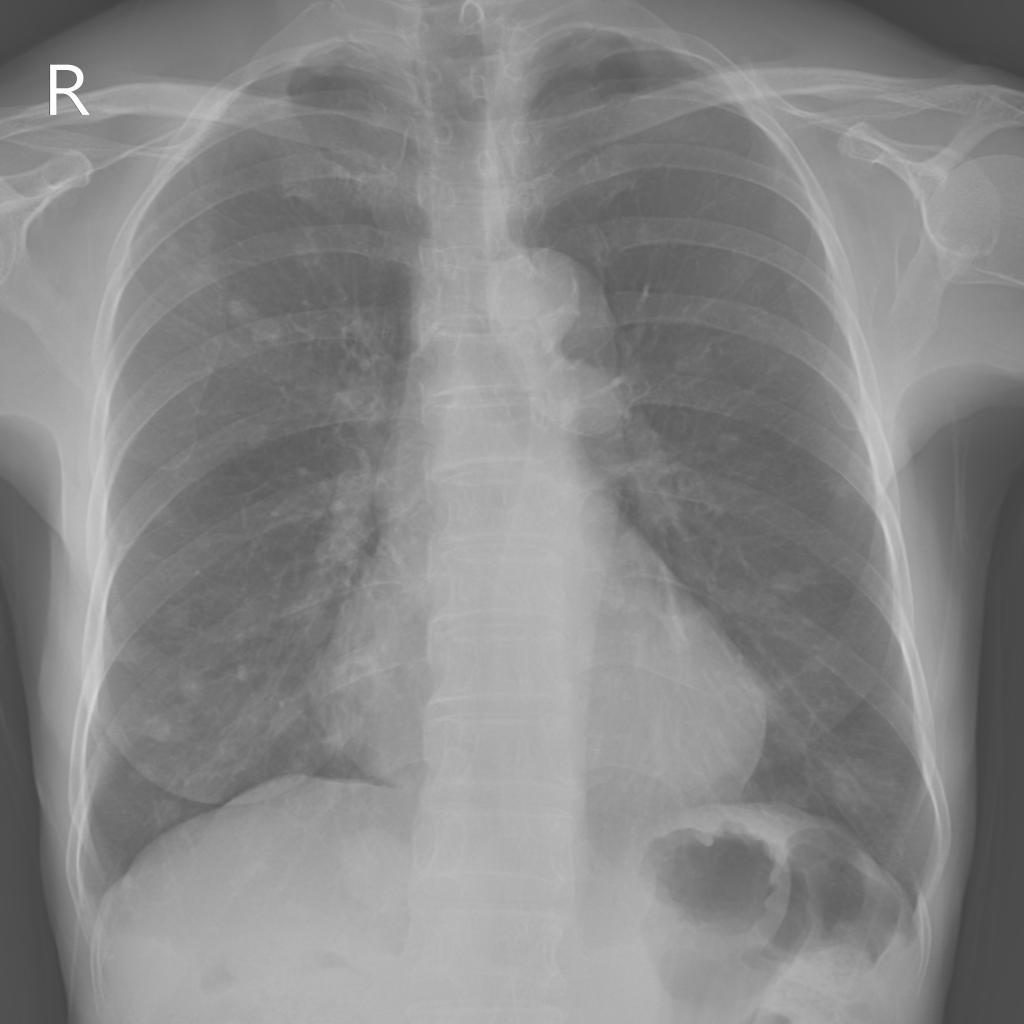Nodule: (118, 669, 216, 834), (337, 828, 418, 910), (830, 756, 901, 819), (277, 596, 334, 649), (129, 761, 170, 797), (173, 669, 213, 704), (271, 706, 308, 737), (288, 237, 323, 269), (770, 569, 805, 599), (234, 425, 271, 452), (152, 797, 184, 827), (249, 318, 283, 344), (227, 298, 260, 324), (162, 605, 193, 632), (109, 641, 148, 662), (823, 476, 857, 500), (155, 505, 179, 529), (715, 432, 740, 455), (802, 565, 826, 587), (802, 654, 827, 673), (675, 355, 691, 375), (236, 666, 250, 683)
